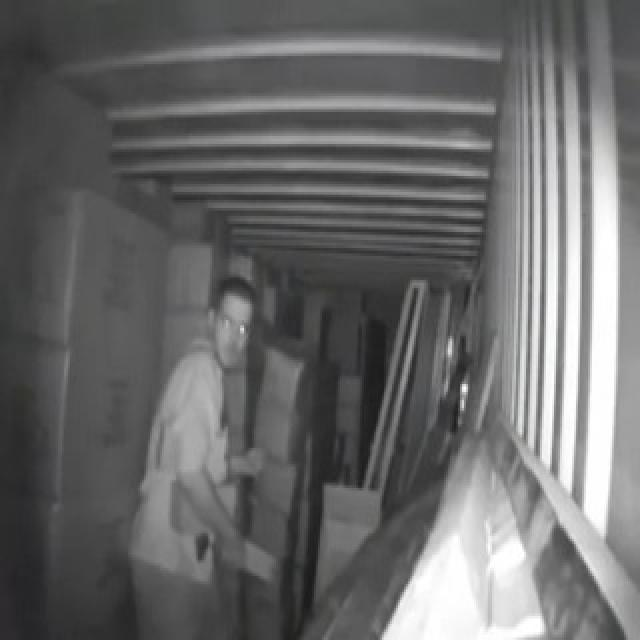thief: (135, 265, 266, 640)
